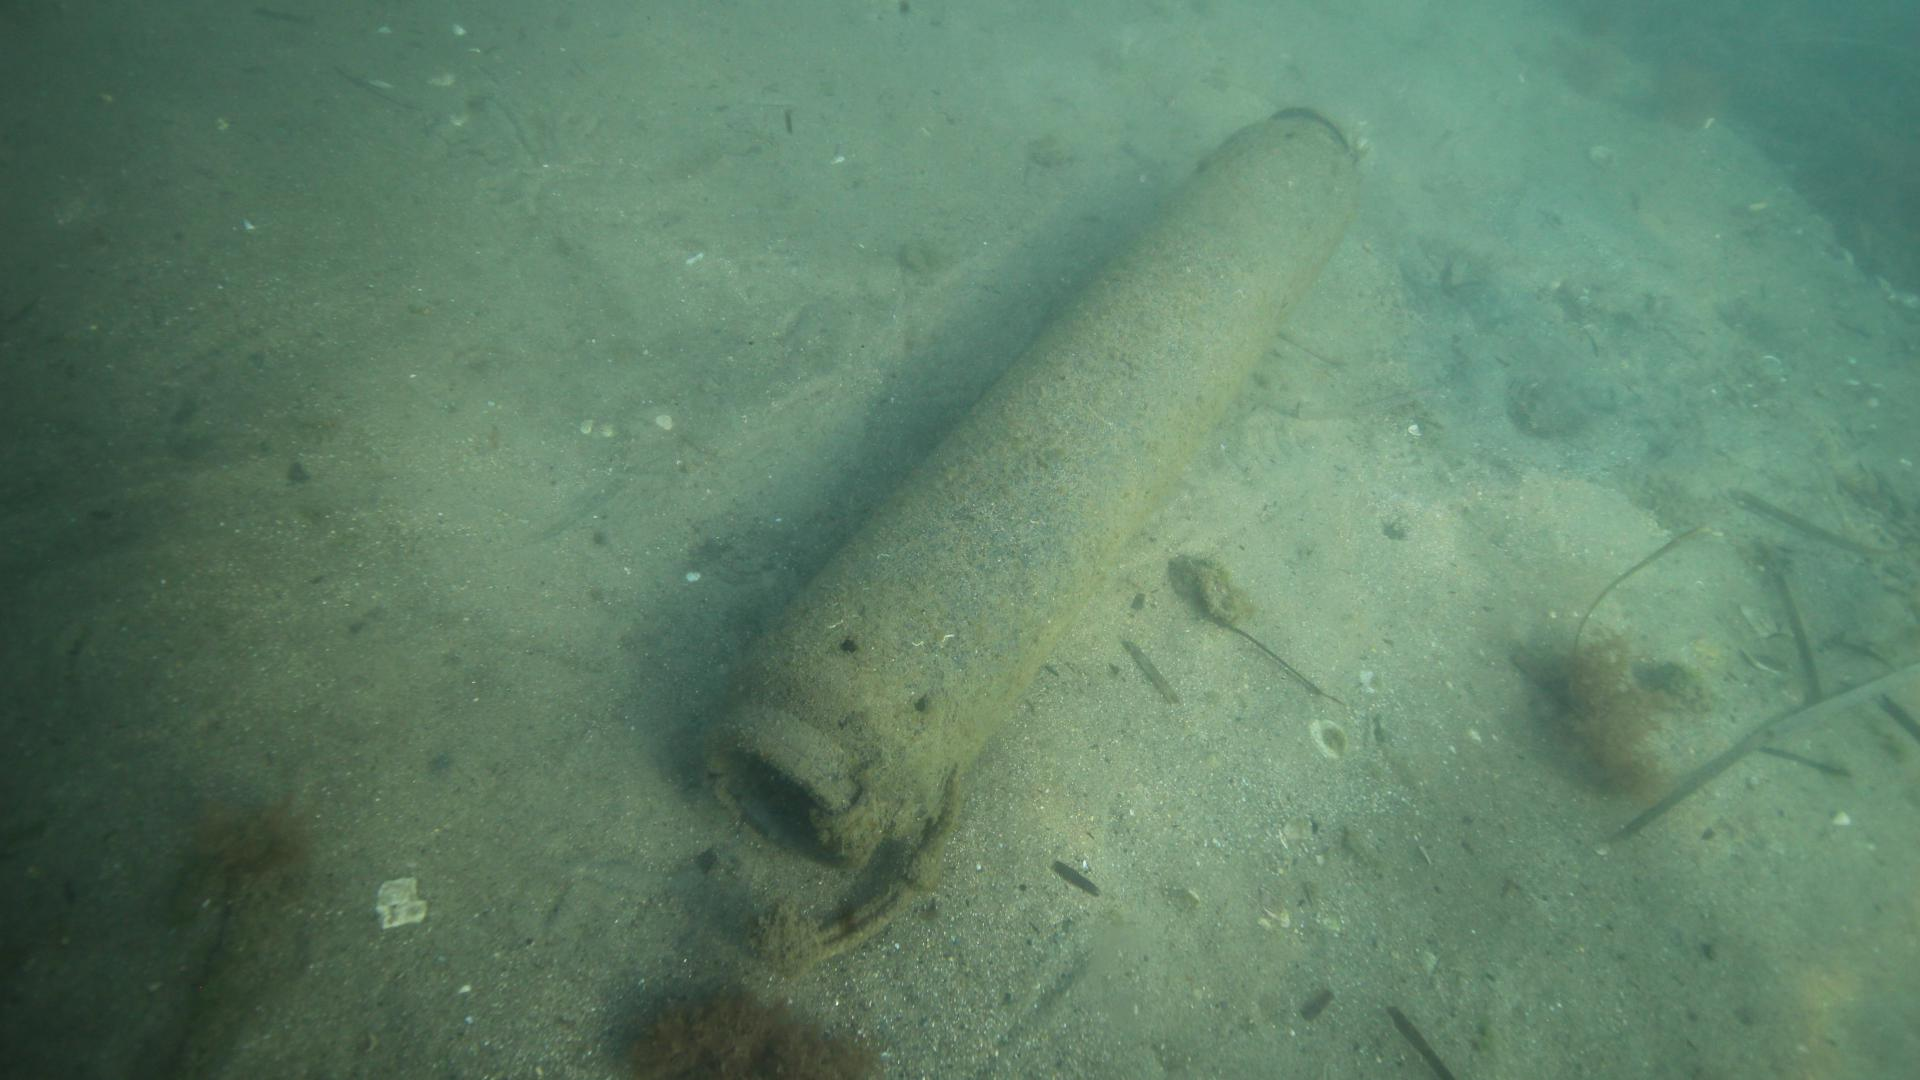bundle of ropes: (804, 764, 968, 961)
eel fish trap: (700, 104, 1377, 873)
